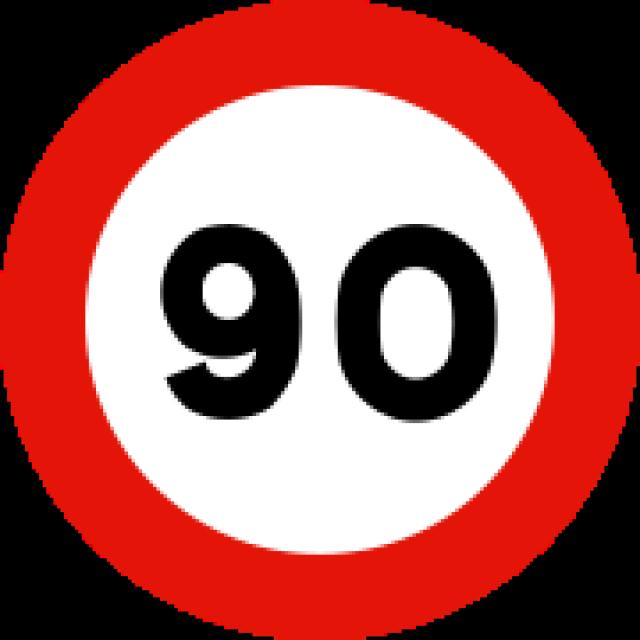Speed Limit -90-: (158, 208, 501, 425)
